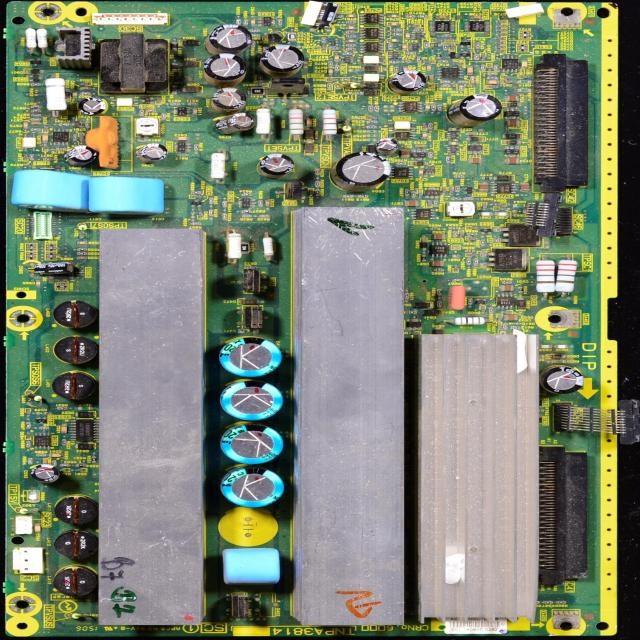Capacitor Jumper: (478, 182, 490, 193), (504, 94, 520, 102), (498, 285, 514, 292), (554, 344, 570, 351), (467, 157, 483, 164), (506, 157, 520, 165), (404, 200, 420, 207), (520, 182, 531, 192), (486, 79, 500, 86), (506, 120, 520, 127), (431, 260, 447, 266), (466, 65, 474, 76), (502, 315, 519, 320), (540, 344, 554, 350), (496, 212, 510, 218), (432, 234, 446, 240), (480, 212, 493, 218), (31, 120, 43, 126), (41, 134, 50, 142), (522, 60, 529, 70), (50, 453, 62, 458), (448, 128, 460, 133), (60, 425, 67, 432), (76, 256, 88, 260), (77, 241, 88, 245), (416, 144, 427, 148), (424, 104, 430, 111), (448, 142, 458, 146), (22, 122, 28, 128), (35, 525, 39, 532), (423, 132, 427, 139), (468, 132, 476, 135), (266, 200, 270, 206), (251, 20, 255, 26), (328, 70, 333, 74), (346, 26, 355, 28), (403, 46, 407, 50), (389, 15, 397, 17), (406, 34, 409, 38), (335, 57, 339, 60), (438, 16, 444, 18), (391, 24, 396, 26), (348, 40, 353, 42), (44, 459, 46, 464), (348, 14, 353, 16), (474, 16, 479, 18), (428, 66, 430, 70), (404, 67, 408, 69), (392, 40, 398, 41), (446, 40, 452, 41)
Connector: (536, 58, 590, 183), (538, 444, 586, 583)
IC: (70, 420, 101, 442), (31, 433, 56, 449), (429, 20, 457, 33), (435, 67, 463, 80), (396, 101, 422, 115), (408, 208, 436, 221), (500, 55, 520, 73), (359, 27, 384, 41), (430, 242, 450, 259), (359, 42, 385, 55), (462, 21, 491, 32), (495, 294, 514, 310), (390, 167, 415, 179), (492, 183, 517, 195), (358, 13, 383, 25), (171, 107, 192, 119), (392, 131, 417, 141), (238, 197, 257, 209), (174, 141, 191, 154), (411, 149, 428, 162), (258, 17, 277, 28), (503, 108, 520, 120), (468, 144, 485, 156), (445, 131, 462, 141), (446, 145, 461, 156), (423, 165, 436, 176), (504, 147, 519, 156)
Resistor Jumper: (44, 78, 70, 114), (535, 259, 557, 292), (558, 259, 576, 292), (226, 232, 246, 260), (322, 108, 341, 137), (209, 152, 228, 180), (287, 108, 304, 137), (255, 108, 270, 136), (450, 317, 490, 327), (261, 237, 277, 260), (24, 28, 37, 51), (37, 29, 49, 52), (24, 242, 38, 252), (23, 252, 38, 260), (44, 251, 57, 260), (44, 244, 57, 252), (174, 136, 188, 142), (30, 112, 42, 117), (192, 108, 200, 115), (30, 109, 43, 113), (30, 116, 43, 120), (30, 105, 42, 109), (76, 252, 88, 255), (208, 198, 214, 204), (242, 192, 251, 195), (438, 302, 442, 308), (555, 360, 563, 363), (411, 192, 415, 198), (36, 454, 43, 457), (483, 177, 490, 180), (77, 248, 87, 250), (28, 459, 32, 464), (476, 55, 480, 60), (374, 107, 379, 111), (368, 135, 378, 137), (236, 21, 241, 25), (453, 232, 457, 237), (42, 427, 48, 430), (519, 80, 528, 82), (59, 123, 68, 125), (260, 200, 263, 206), (501, 281, 509, 283), (395, 30, 403, 32), (502, 324, 506, 328), (346, 35, 354, 37), (424, 44, 428, 48), (437, 54, 441, 58), (418, 58, 422, 62), (494, 65, 498, 69), (394, 67, 398, 71), (459, 86, 463, 90), (436, 290, 439, 295), (316, 181, 319, 186), (317, 190, 320, 195), (210, 211, 213, 216), (244, 215, 249, 218), (223, 214, 226, 219), (442, 35, 449, 37), (81, 407, 88, 409), (59, 407, 66, 409), (33, 84, 40, 86), (172, 103, 179, 105), (368, 131, 375, 133), (260, 215, 267, 217), (431, 228, 438, 230), (481, 241, 484, 245), (473, 259, 476, 263), (467, 260, 471, 263), (454, 280, 460, 282), (405, 294, 408, 298), (252, 30, 258, 32), (321, 38, 324, 42), (62, 440, 65, 444), (475, 44, 479, 47), (440, 60, 446, 62), (481, 66, 485, 69), (491, 76, 497, 78), (442, 81, 448, 83), (189, 102, 195, 104), (437, 105, 441, 108), (369, 106, 372, 110), (148, 110, 154, 112), (86, 122, 89, 126), (32, 129, 38, 131), (368, 138, 374, 140), (317, 170, 320, 174), (456, 175, 462, 177), (456, 187, 460, 190), (406, 191, 409, 195), (245, 20, 248, 24), (448, 227, 454, 229), (417, 29, 422, 31), (514, 326, 519, 328), (253, 36, 258, 38), (28, 424, 30, 429), (26, 442, 28, 447), (349, 44, 354, 46), (405, 60, 410, 62), (392, 61, 397, 63), (370, 126, 375, 128), (280, 20, 282, 25), (469, 233, 474, 235), (444, 46, 447, 49), (328, 84, 331, 87), (432, 106, 435, 109), (162, 115, 165, 118), (468, 250, 472, 252), (434, 44, 438, 46), (93, 458, 95, 462), (52, 461, 54, 465), (390, 45, 392, 49), (344, 52, 352, 53), (330, 62, 332, 66), (343, 79, 347, 81), (75, 136, 77, 140), (32, 155, 34, 159), (47, 158, 51, 160), (344, 196, 352, 197), (459, 81, 466, 82), (244, 211, 251, 212), (252, 43, 254, 46), (78, 465, 84, 466), (336, 67, 338, 70), (442, 85, 448, 86), (141, 111, 143, 114), (369, 121, 375, 122), (348, 32, 353, 33), (330, 48, 335, 49), (348, 48, 353, 49), (408, 52, 413, 53), (59, 149, 64, 150), (421, 16, 426, 17), (360, 195, 365, 196), (490, 310, 492, 312), (63, 465, 67, 466), (522, 89, 526, 90), (194, 192, 198, 193), (465, 198, 469, 199), (454, 198, 458, 199), (396, 34, 399, 35), (489, 74, 496, 74), (140, 140, 146, 140), (407, 16, 412, 16)
Transistor: (560, 403, 618, 434), (486, 248, 528, 272), (501, 223, 543, 247), (404, 318, 422, 331), (410, 148, 427, 160), (474, 298, 491, 308), (424, 188, 440, 198), (192, 201, 202, 207), (343, 56, 352, 62), (29, 61, 42, 64), (32, 76, 40, 80), (37, 419, 45, 422), (331, 41, 337, 44)
